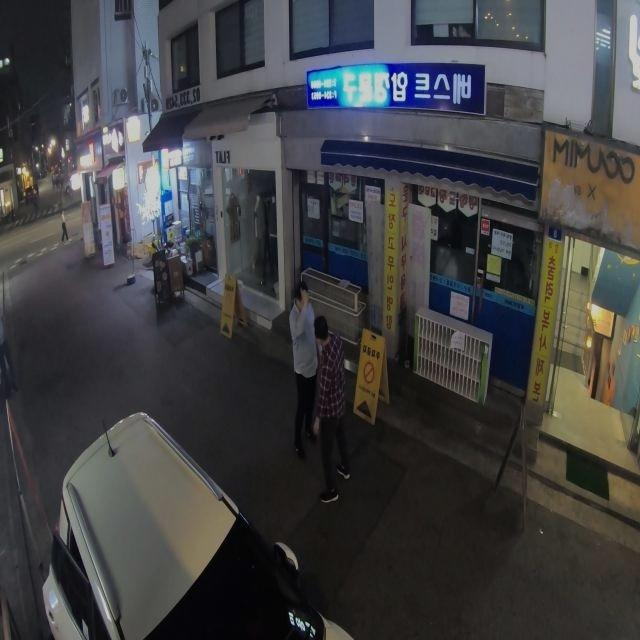non-fight: (307, 315, 354, 507), (285, 282, 321, 449)
